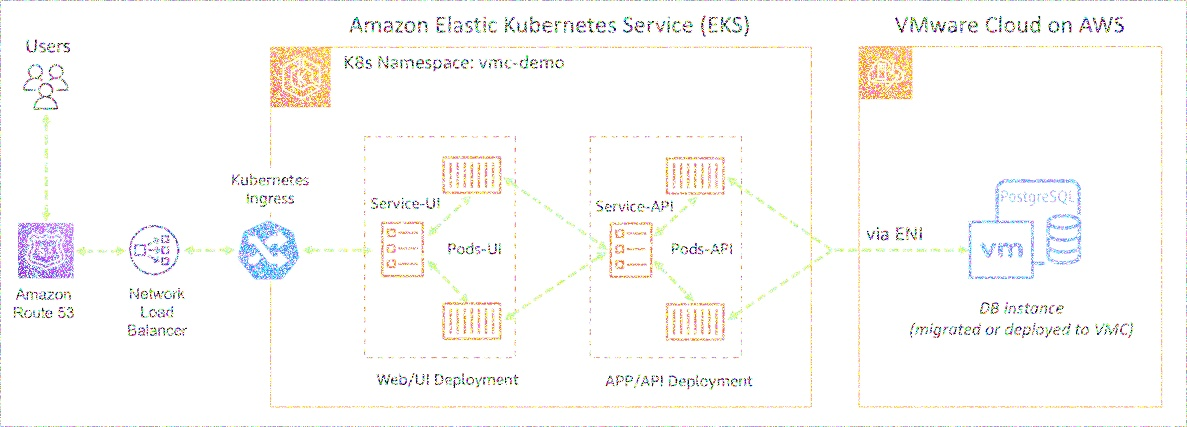Container: (437, 144, 509, 200), (661, 293, 729, 349), (662, 148, 732, 201), (442, 291, 506, 345)
EKS: (259, 37, 340, 117)
ELB: (126, 219, 179, 279)
Ingress: (239, 221, 301, 284)
Route53: (17, 221, 77, 280)
Users: (16, 54, 78, 119)
